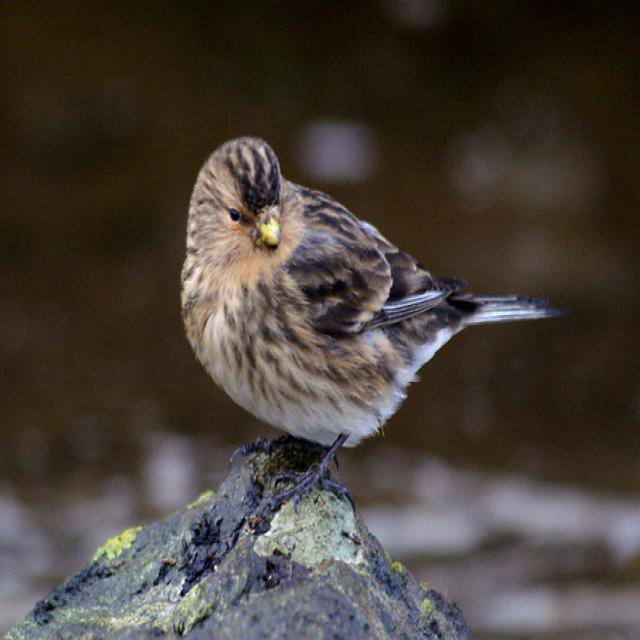bird: (142, 53, 610, 540)
